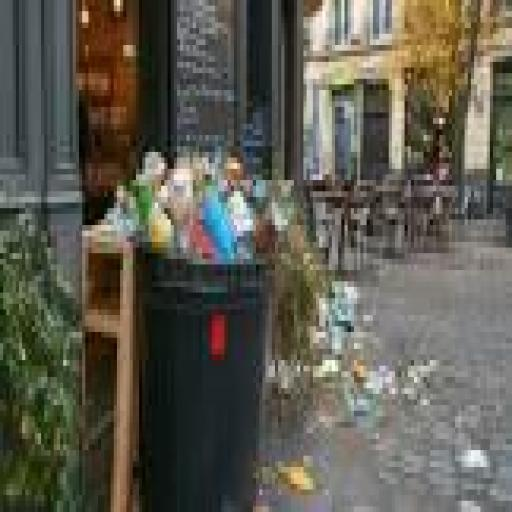poubelle_pleine: (95, 140, 294, 512)
